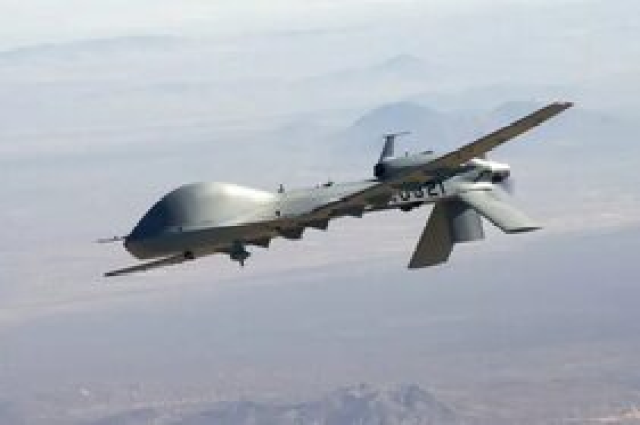military drone: (93, 101, 574, 276)
